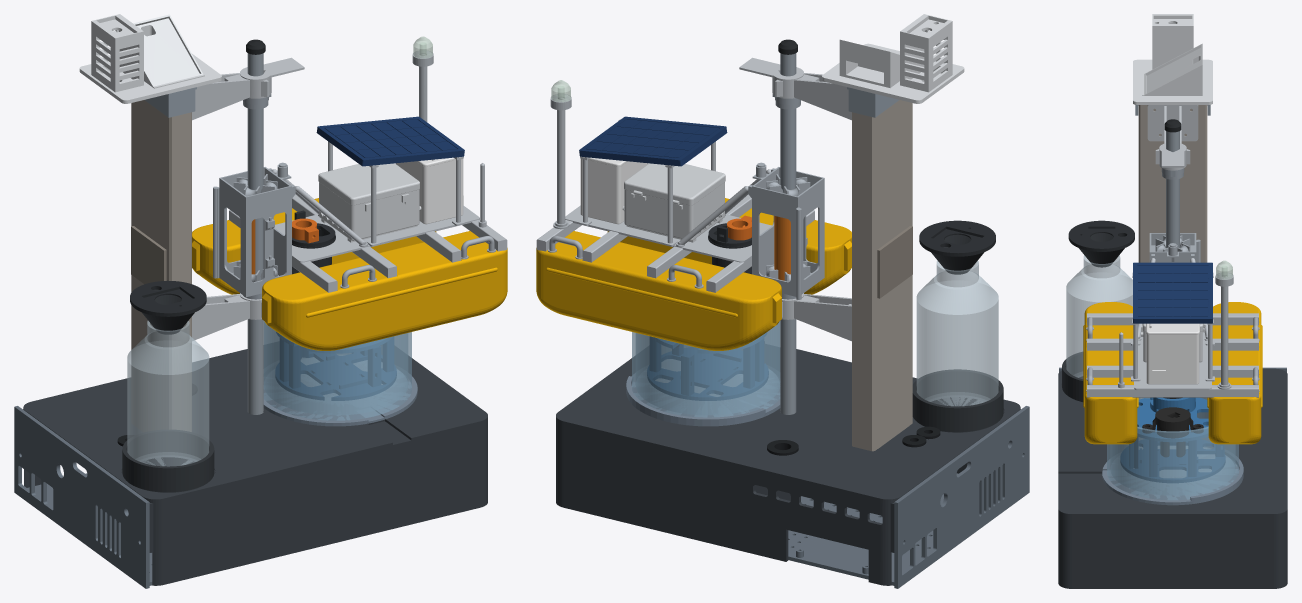
File: AquaSentinel_LIVE_1to5.glb
3 views of the same model, side by side, from view 1: azimuth 30°, elevation 25°; view 2: azimuth 150°, elevation 25°; view 3: azimuth 270°, elevation 25° (orthographic). The views are drawn at different scales.
Parts seen in each view (by area): view 1: LD-S01 Plinth / electronics bay, ORIG-F02 Hull, port, LD-S08 Electronics tray + end panel, P-DISH Glass dish 115 x 65 (purchased), P-BOTTLE 250 mL sample bottle (purchased), ORIG-S02b Pier column, top half, LD-S10b Met plate (rain / LDR / DHT11), ORIG-F04 Guide carriage, ORIG-F03 Deck frame (struts, stanchions), ORIG-S02a Pier column, bottom half, ORIG-F09 Control pod, LD-F16b Sensor cage basket (+12 smaller); view 2: LD-S01 Plinth / electronics bay, ORIG-F01 Hull, starboard, LD-S08 Electronics tray + end panel, P-BOTTLE 250 mL sample bottle (purchased), P-DISH Glass dish 115 x 65 (purchased), ORIG-S02a Pier column, bottom half, ORIG-S02b Pier column, top half, LD-S10b Met plate (rain / LDR / DHT11), ORIG-F03 Deck frame (struts, stanchions), ORIG-F04 Guide carriage, ORIG-F09 Control pod, LD-F16b Sensor cage basket (+14 smaller); view 3: LD-S01 Plinth / electronics bay, P-DISH Glass dish 115 x 65 (purchased), ORIG-F03 Deck frame (struts, stanchions), ORIG-S02b Pier column, top half, LD-S10b Met plate (rain / LDR / DHT11), ORIG-F11 PV canopy, ORIG-F02 Hull, port, ORIG-F01 Hull, starboard, P-BOTTLE 250 mL sample bottle (purchased), ORIG-F10 Autosampler, LD-F16b Sensor cage basket, ORIG-S04 Pier bracket, upper (+9 smaller).
Part boxes in pixels (bbox=[...]): LD-S01 Plinth / electronics bay: bbox=[23, 349, 487, 585]; ORIG-F02 Hull, port: bbox=[262, 231, 507, 350]; LD-S08 Electronics tray + end panel: bbox=[14, 406, 152, 588]; P-DISH Glass dish 115 x 65 (purchased): bbox=[263, 321, 411, 420]; P-BOTTLE 250 mL sample bottle (purchased): bbox=[127, 320, 209, 466]; ORIG-S02b Pier column, top half: bbox=[131, 100, 191, 275]; LD-S10b Met plate (rain / LDR / DHT11): bbox=[79, 14, 221, 103]; ORIG-F04 Guide carriage: bbox=[213, 162, 295, 297]; ORIG-F03 Deck frame (struts, stanchions): bbox=[229, 141, 507, 292]; ORIG-S02a Pier column, bottom half: bbox=[131, 271, 191, 432]; ORIG-F09 Control pod: bbox=[318, 163, 421, 242]; LD-F16b Sensor cage basket: bbox=[275, 337, 396, 400]; LD-S01 Plinth / electronics bay: bbox=[556, 349, 1020, 585]; ORIG-F01 Hull, starboard: bbox=[536, 231, 781, 350]; LD-S08 Electronics tray + end panel: bbox=[788, 406, 1029, 588]; P-BOTTLE 250 mL sample bottle (purchased): bbox=[916, 260, 998, 406]; P-DISH Glass dish 115 x 65 (purchased): bbox=[632, 321, 780, 417]; ORIG-S02a Pier column, bottom half: bbox=[852, 271, 912, 451]; ORIG-S02b Pier column, top half: bbox=[852, 100, 912, 275]; LD-S10b Met plate (rain / LDR / DHT11): bbox=[822, 14, 964, 103]; ORIG-F03 Deck frame (struts, stanchions): bbox=[536, 119, 814, 292]; ORIG-F04 Guide carriage: bbox=[748, 162, 824, 299]; ORIG-F09 Control pod: bbox=[622, 163, 725, 242]; LD-F16b Sensor cage basket: bbox=[647, 337, 768, 400]; LD-S01 Plinth / electronics bay: bbox=[1058, 368, 1287, 588]; P-DISH Glass dish 115 x 65 (purchased): bbox=[1107, 397, 1238, 500]; ORIG-F03 Deck frame (struts, stanchions): bbox=[1087, 258, 1258, 397]; ORIG-S02b Pier column, top half: bbox=[1138, 105, 1207, 254]; LD-S10b Met plate (rain / LDR / DHT11): bbox=[1133, 14, 1212, 104]; ORIG-F11 PV canopy: bbox=[1133, 262, 1212, 323]; ORIG-F02 Hull, port: bbox=[1083, 302, 1138, 444]; ORIG-F01 Hull, starboard: bbox=[1207, 302, 1262, 444]; P-BOTTLE 250 mL sample bottle (purchased): bbox=[1066, 255, 1132, 378]; ORIG-F10 Autosampler: bbox=[1146, 323, 1199, 384]; LD-F16b Sensor cage basket: bbox=[1120, 437, 1225, 482]; ORIG-S04 Pier bracket, upper: bbox=[1147, 105, 1198, 170].
Bounding box in the file's own units: 0.3332 × 0.4212 × 0.2.
